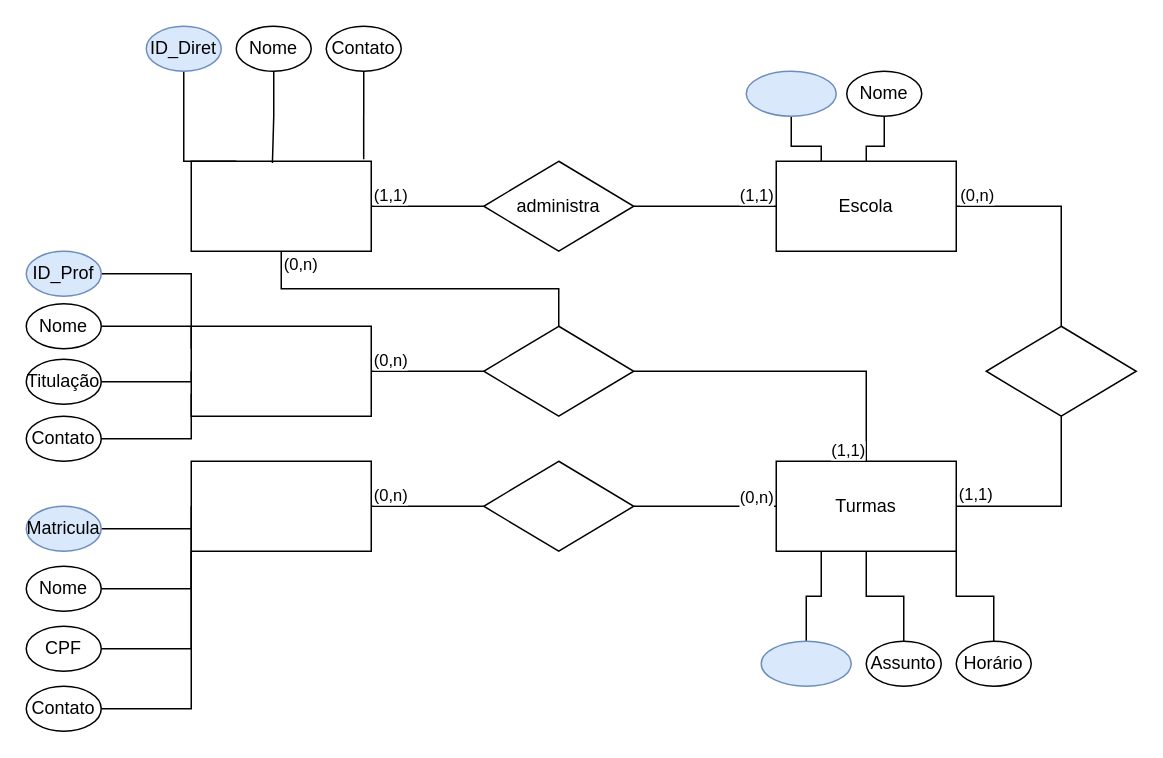
The diagram is 1163 pixels wide and 758 high, and some of its shapes have lost their labels. Each missing label, with the centre of its shape:
"Aluno" belongs at point 280,505.
"Diretor" belongs at point 280,205.
"ID_Escola" belongs at point 790,93.
"ID_Turma" belongs at point 805,663.
"leciona" belongs at point 558,370.
"matriculado" belongs at point 558,505.
"Professor" belongs at point 280,370.
"tem" belongs at point 1060,370.
